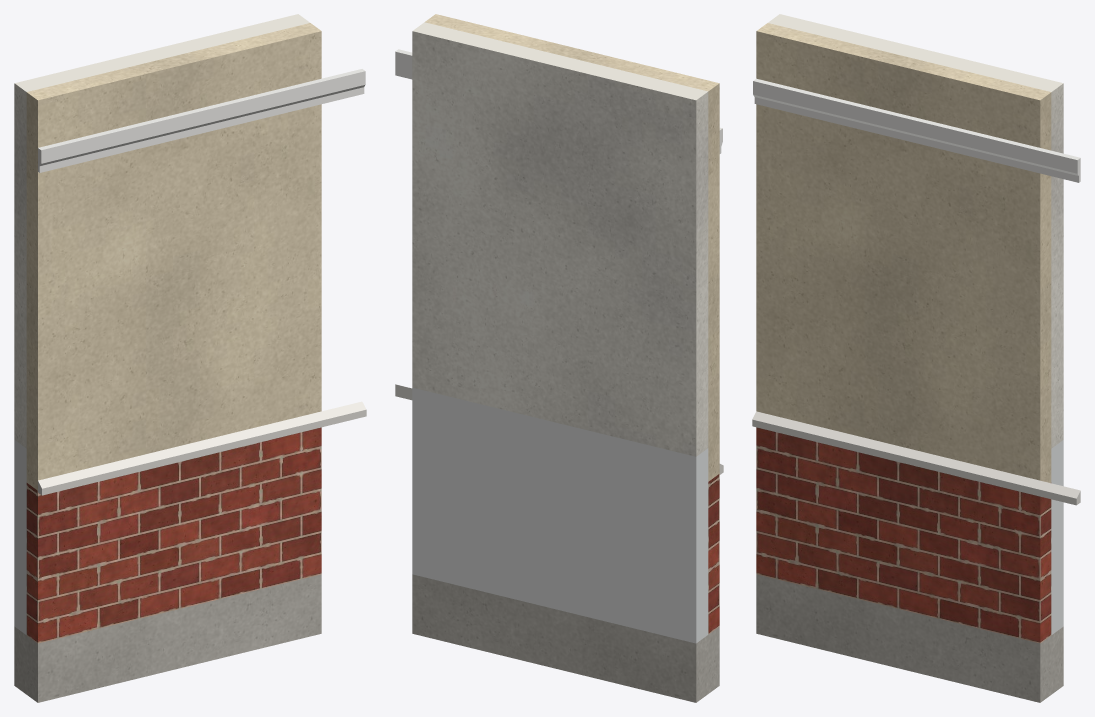
File: c_plain_r_eb.glb
3 renders of one model, left to right at view 1: azimuth 30°, elevation 25°; view 2: azimuth 150°, elevation 25°; view 3: azimuth 330°, elevation 25°, orthographic.
Parts seen in each view (by area): view 1: c_plain_r_eb_render, c_plain_r_eb_brick, c_plain_r_eb_concrete, c_plain_r_eb_trim, c_plain_r_eb_plaster, c_plain_r_eb_coping, c_plain_r_eb_tile; view 2: c_plain_r_eb_plaster, c_plain_r_eb_tile, c_plain_r_eb_concrete, c_plain_r_eb_render, c_plain_r_eb_brick, c_plain_r_eb_trim; view 3: c_plain_r_eb_render, c_plain_r_eb_brick, c_plain_r_eb_concrete, c_plain_r_eb_trim, c_plain_r_eb_plaster, c_plain_r_eb_coping, c_plain_r_eb_tile.
Boxes of the visible parts, x1=… form: c_plain_r_eb_render: x1=26, y1=23, x2=321, y2=490; c_plain_r_eb_brick: x1=26, y1=427, x2=321, y2=643; c_plain_r_eb_concrete: x1=14, y1=574, x2=321, y2=702; c_plain_r_eb_trim: x1=38, y1=69, x2=365, y2=172; c_plain_r_eb_plaster: x1=14, y1=14, x2=309, y2=448; c_plain_r_eb_coping: x1=38, y1=401, x2=366, y2=495; c_plain_r_eb_tile: x1=14, y1=440, x2=26, y2=634; c_plain_r_eb_plaster: x1=412, y1=22, x2=708, y2=456; c_plain_r_eb_tile: x1=412, y1=387, x2=708, y2=643; c_plain_r_eb_concrete: x1=412, y1=574, x2=719, y2=702; c_plain_r_eb_render: x1=425, y1=14, x2=719, y2=481; c_plain_r_eb_brick: x1=708, y1=474, x2=719, y2=634; c_plain_r_eb_trim: x1=395, y1=49, x2=722, y2=153; c_plain_r_eb_render: x1=756, y1=23, x2=1051, y2=482; c_plain_r_eb_brick: x1=756, y1=427, x2=1051, y2=643; c_plain_r_eb_concrete: x1=756, y1=574, x2=1063, y2=702; c_plain_r_eb_trim: x1=753, y1=78, x2=1080, y2=182; c_plain_r_eb_plaster: x1=768, y1=14, x2=1063, y2=448; c_plain_r_eb_coping: x1=752, y1=411, x2=1080, y2=505; c_plain_r_eb_tile: x1=1051, y1=440, x2=1063, y2=634.
Bounding box in the file's own units: 2 × 3.55 × 0.295.
7 materials, 4 textured.
